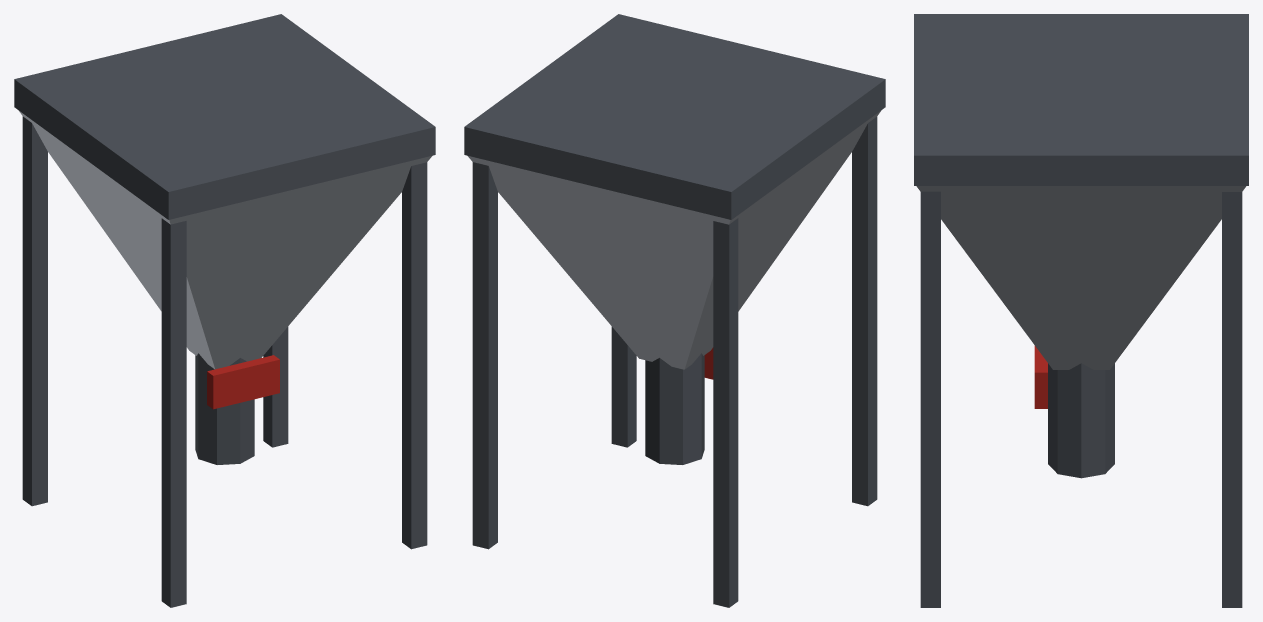
The model's file is grain hopper.glb.
The picture shows the model from 3 angles, left to right: view 1: azimuth 30°, elevation 25°; view 2: azimuth 150°, elevation 25°; view 3: azimuth 270°, elevation 25°; orthographic projection. The views are drawn at different scales.
Parts seen in each view (by area): view 1: grain hopper; view 2: grain hopper; view 3: grain hopper.
Boxes of the visible parts, x1,y1,x2,y2 form: grain hopper: [14, 14, 435, 607]; grain hopper: [464, 14, 885, 607]; grain hopper: [914, 14, 1248, 607].
Size of the model in its own units: 1 by 1.5 by 1.
